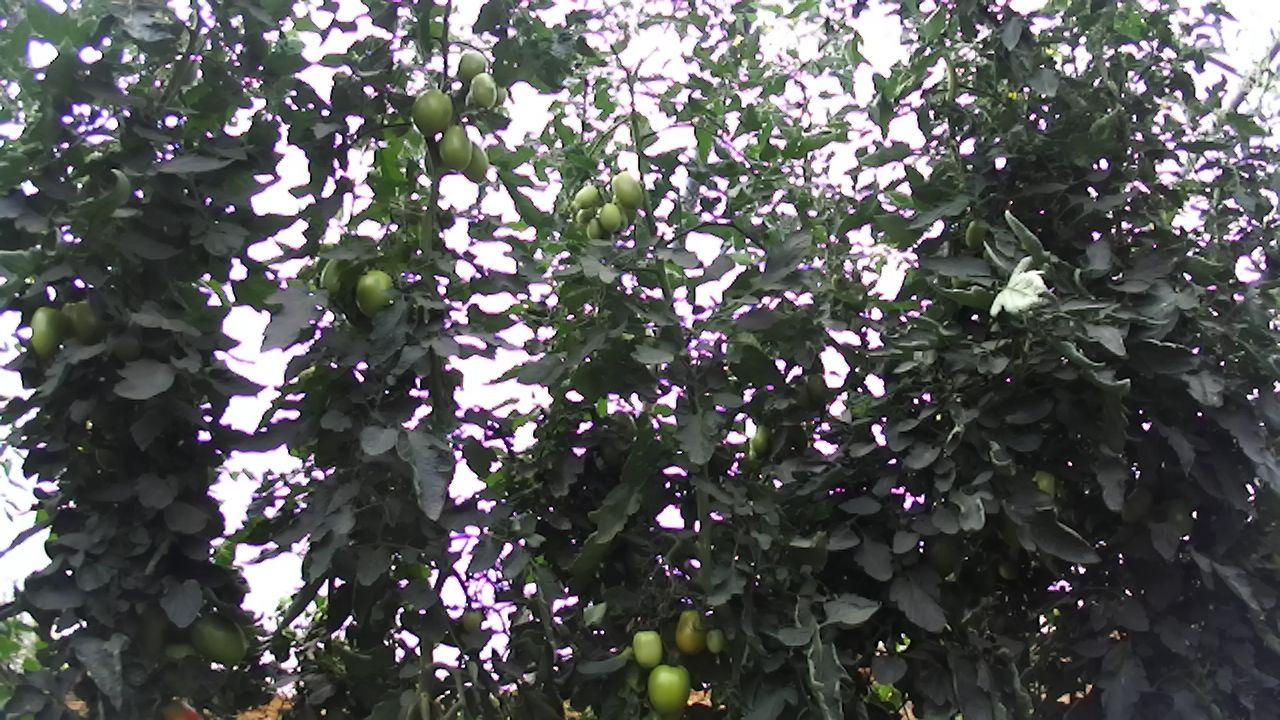tomato: (189, 609, 251, 666), (643, 659, 693, 715), (23, 302, 69, 361), (351, 267, 398, 322), (410, 87, 454, 138), (435, 121, 473, 172), (673, 603, 707, 658), (607, 164, 645, 213), (466, 65, 498, 114), (630, 627, 663, 669), (456, 47, 485, 86), (597, 201, 624, 236), (701, 623, 727, 658), (571, 180, 600, 211), (962, 220, 988, 251), (584, 215, 606, 242)
